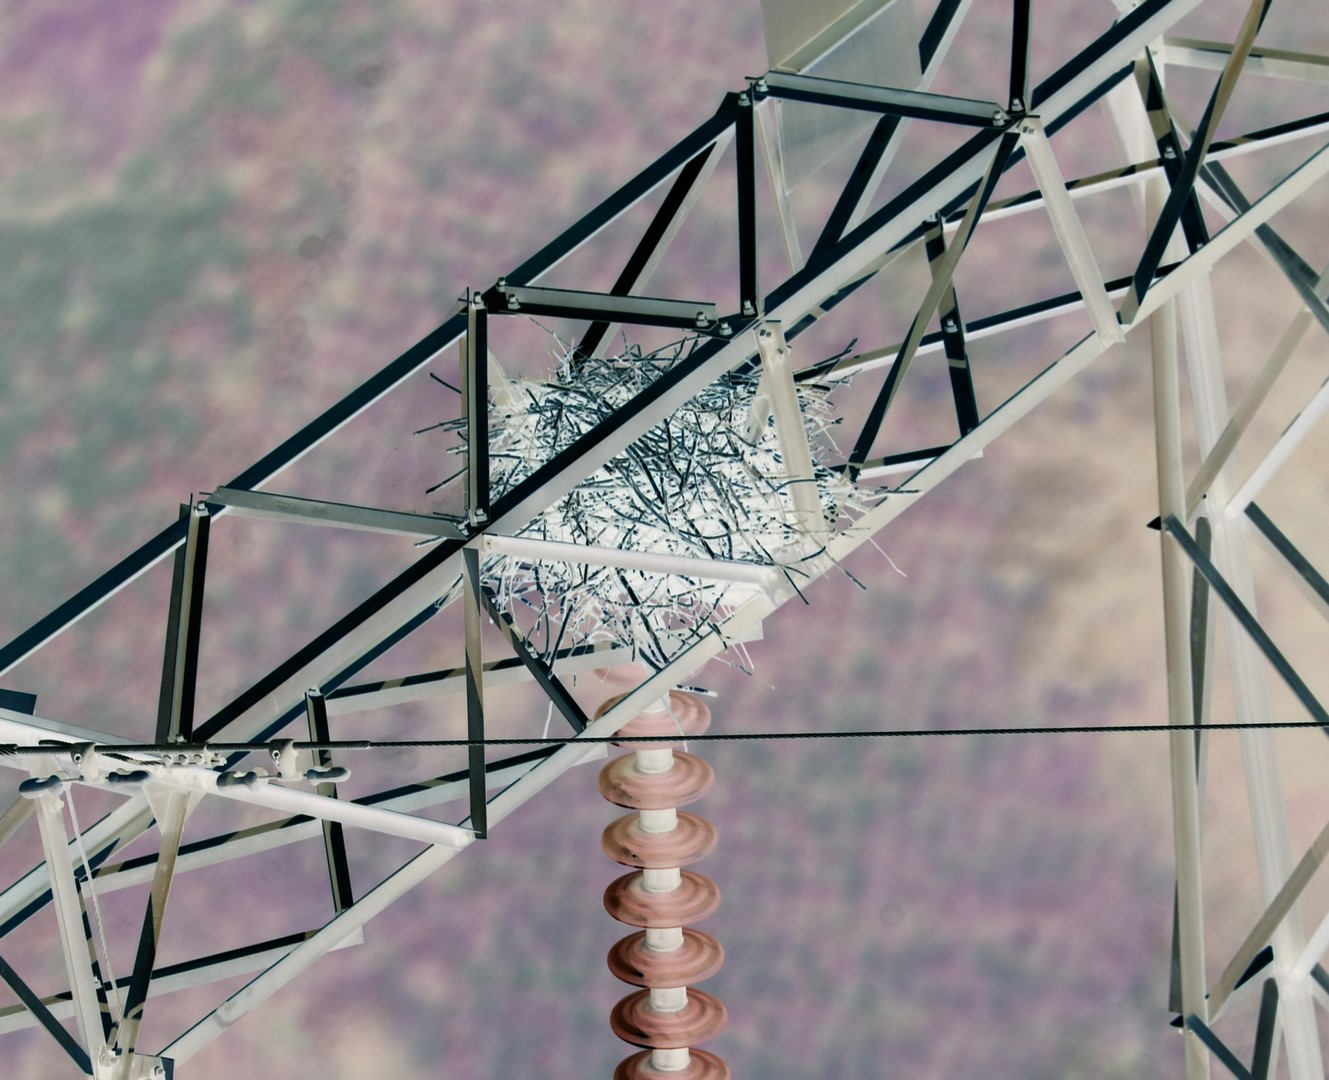niaowo: (463, 311, 901, 671)
